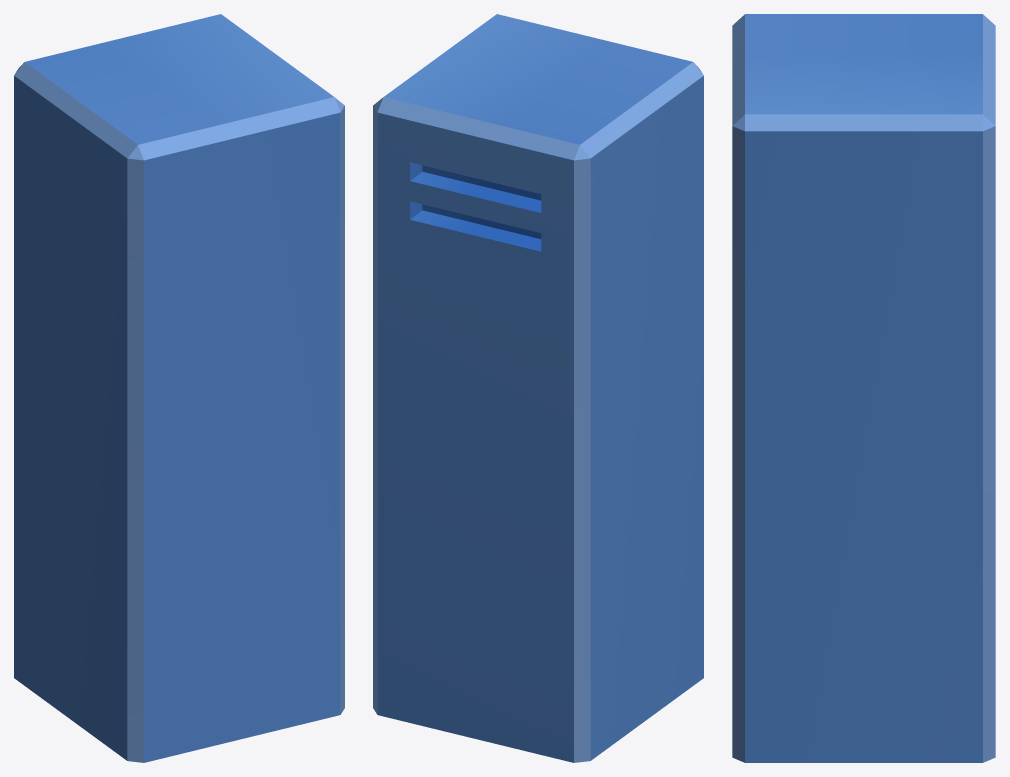
Rendered from ambry.fbx.
3 renders of one model, left to right at view 1: azimuth 30°, elevation 25°; view 2: azimuth 150°, elevation 25°; view 3: azimuth 270°, elevation 25°, orthographic. The views are drawn at different scales.
Visible parts, largest first — view 1: ambry; view 2: ambry; view 3: ambry.
Part boxes in pixels (x1,y1,x2,y2): ambry: (14,14,344,762); ambry: (373,14,703,762); ambry: (732,14,995,762).
Bounding box in the file's own units: 0.734 × 1.98 × 0.734.
